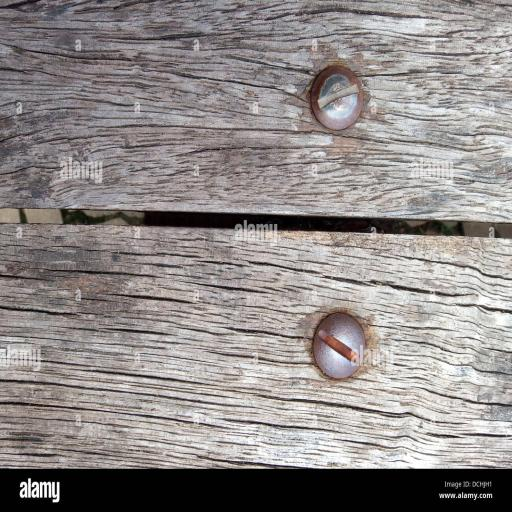Slotted: (310, 310, 368, 383), (310, 64, 362, 131)
